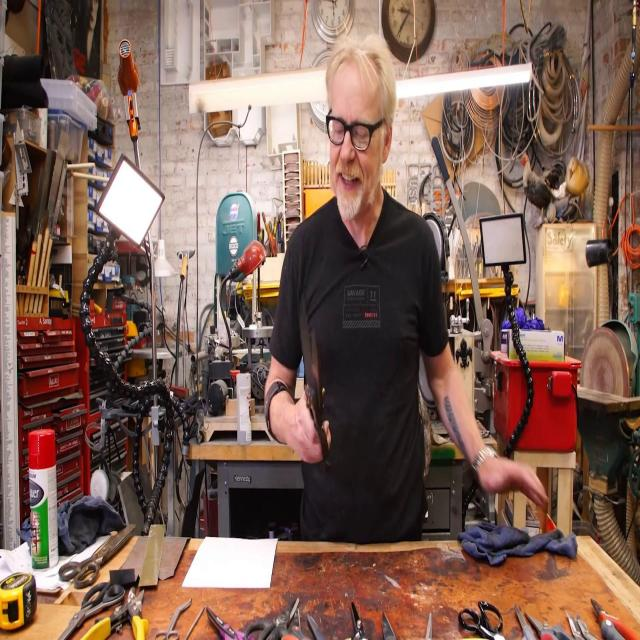scissor: (300, 294, 334, 475), (57, 524, 136, 590), (58, 581, 125, 640), (244, 597, 300, 640), (458, 600, 505, 640), (207, 606, 255, 640), (155, 598, 193, 640), (524, 611, 572, 640), (344, 601, 370, 640), (281, 607, 311, 640), (514, 604, 537, 640)
